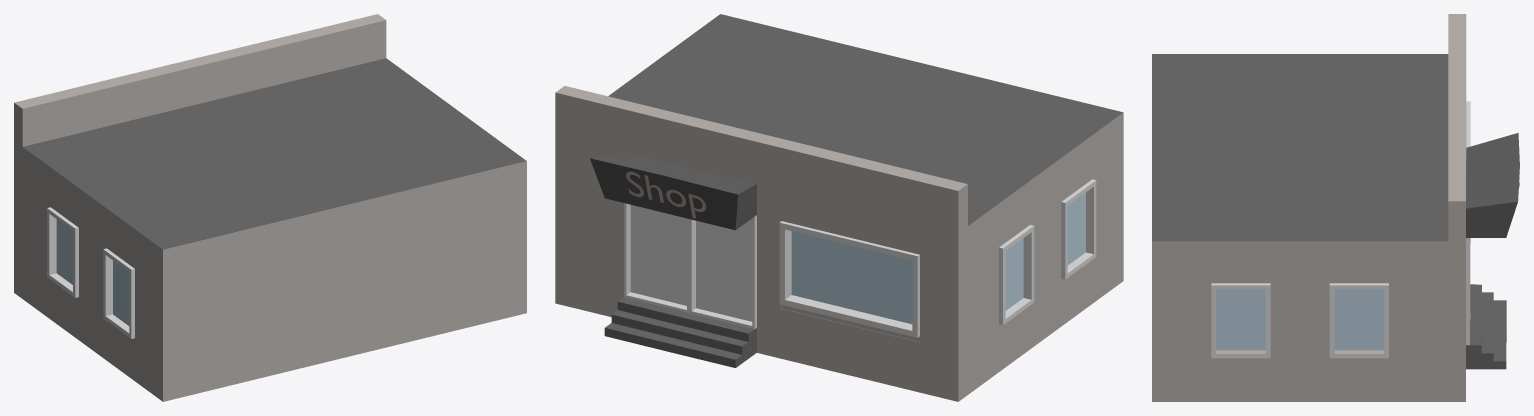
Rendered from shop.fbx.
3 renders of one model, left to right at view 1: azimuth 30°, elevation 25°; view 2: azimuth 150°, elevation 25°; view 3: azimuth 270°, elevation 25°, orthographic. The views are drawn at different scales.
Parts seen in each view (by area): view 1: Cube; view 2: Cube, Text; view 3: Cube.
Boxes of the visible parts, bbox=[...] form: Cube: bbox=[14, 14, 526, 401]; Cube: bbox=[555, 14, 1123, 401]; Text: bbox=[626, 171, 706, 218]; Cube: bbox=[1152, 14, 1519, 401].
Bounding box in the file's own units: 102 × 50 × 83.06.
